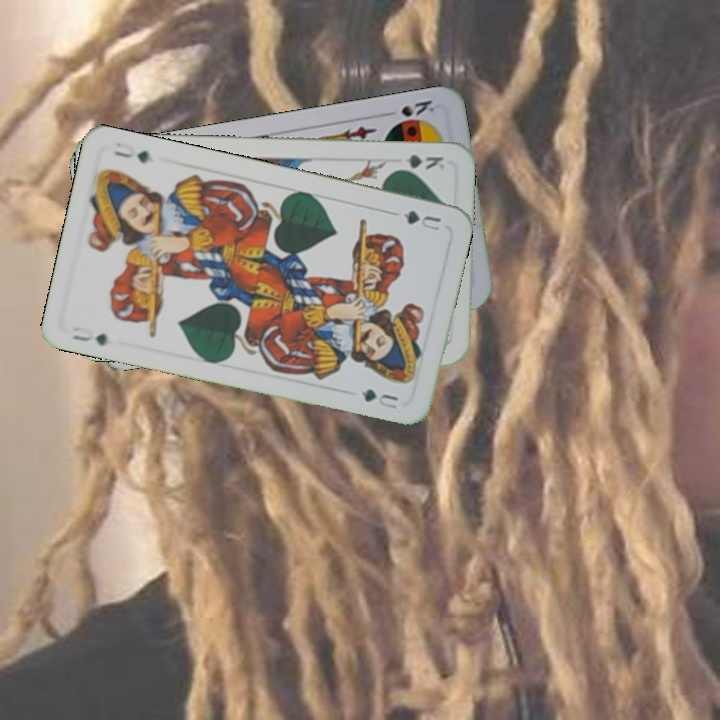GK: (390, 150, 447, 173)
GU: (399, 206, 443, 233), (68, 329, 111, 348)
SK: (396, 96, 437, 119)
